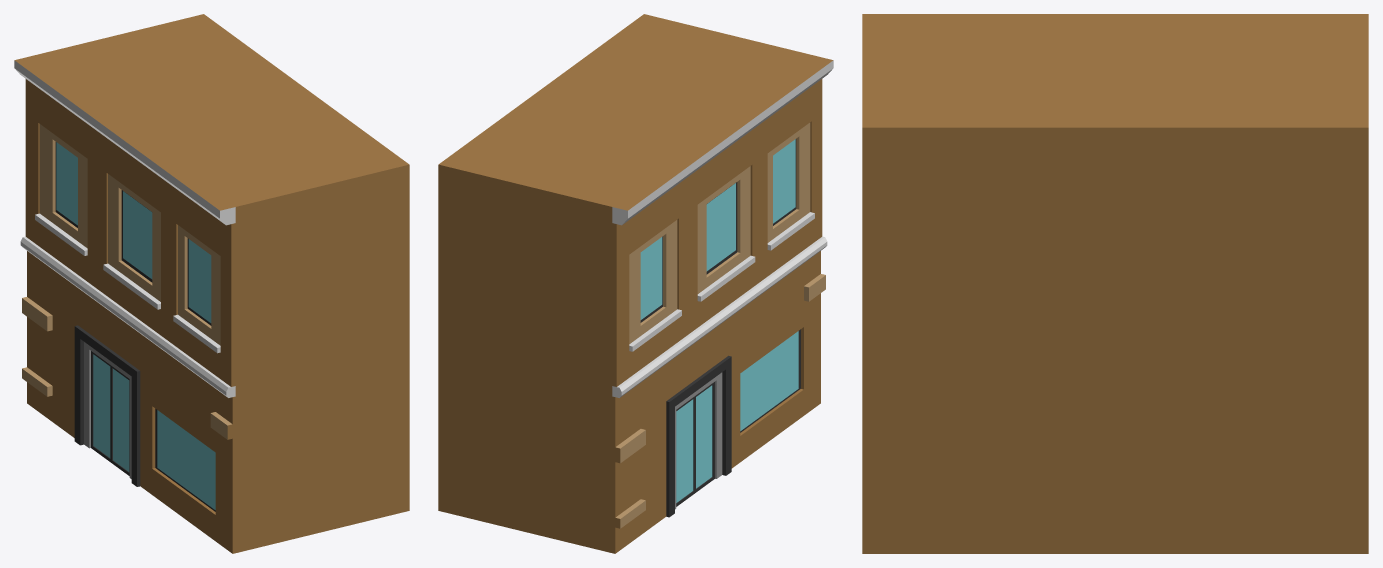
The model's file is Standard Building.fbx.
The picture shows the model from 3 angles, left to right: view 1: azimuth 30°, elevation 25°; view 2: azimuth 150°, elevation 25°; view 3: azimuth 270°, elevation 25°; orthographic projection. The views are drawn at different scales.
Parts seen in each view (by area): view 1: Cube; view 2: Cube; view 3: Cube.
Boxes of the visible parts, left/top/right/bottom form: Cube: left=14, top=14, right=409, bottom=553; Cube: left=438, top=14, right=833, bottom=553; Cube: left=862, top=14, right=1368, bottom=553.
Bounding box in the file's own units: 2166 × 3784 × 4074.
